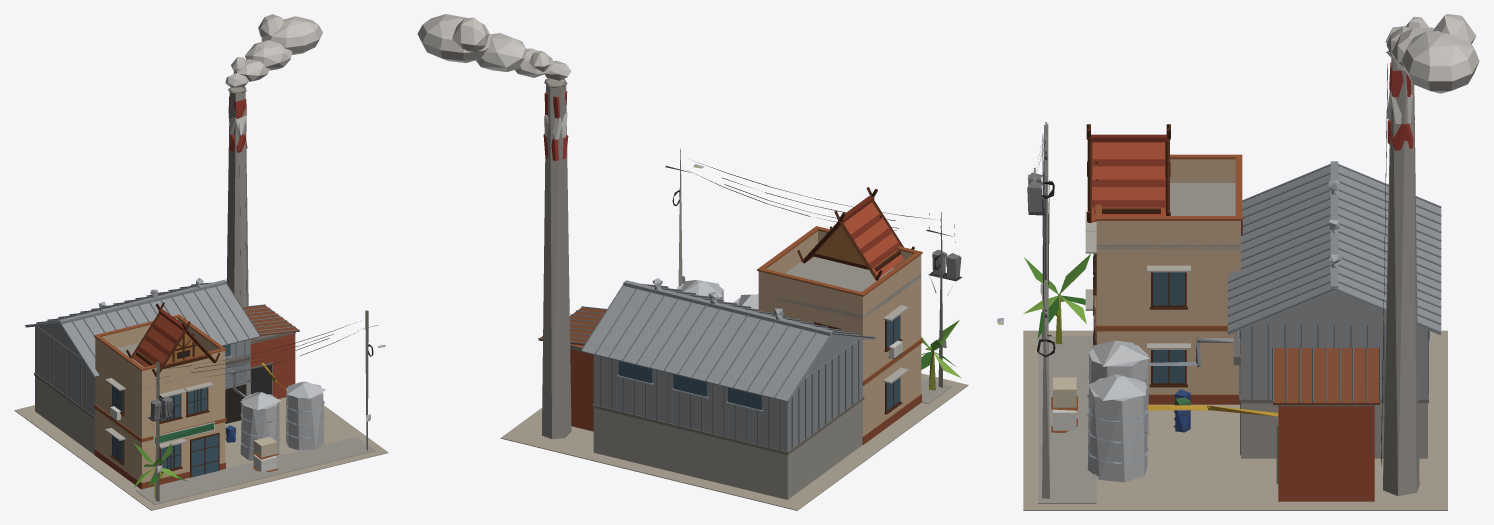
Rendered from factory_3.glb.
3 renders of one model, left to right at view 1: azimuth 30°, elevation 25°; view 2: azimuth 150°, elevation 25°; view 3: azimuth 270°, elevation 25°, orthographic. The views are drawn at different scales.
Parts seen in each view (by area): view 1: body, windows; view 2: body, windows; view 3: body, windows.
Part boxes in pixels (bbox=[...]): body: bbox=[14, 14, 388, 510]; windows: bbox=[112, 344, 384, 477]; body: bbox=[417, 14, 968, 510]; windows: bbox=[618, 167, 899, 410]; body: bbox=[997, 14, 1479, 510]; windows: bbox=[998, 220, 1429, 455].
Bounding box in the file's own units: 20.71 × 21.17 × 18.06.
